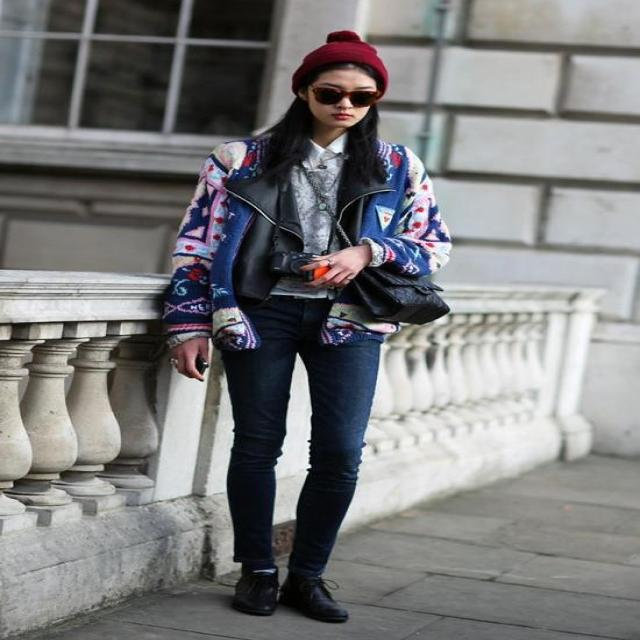pants: (219, 295, 383, 568)
sweater: (158, 134, 452, 352)
